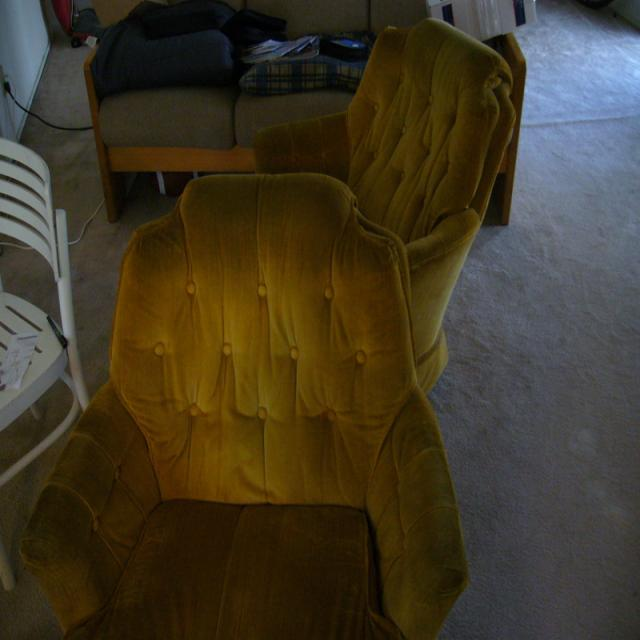chair: (21, 174, 467, 639), (254, 20, 515, 390), (0, 139, 88, 486)
